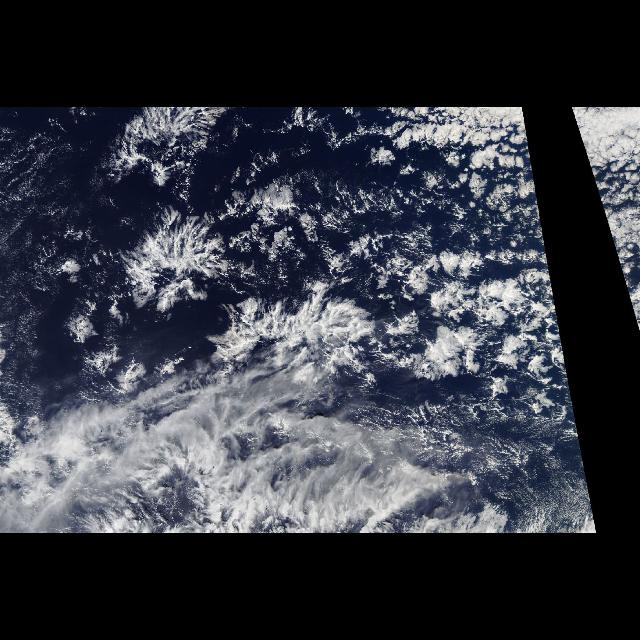Flower: (61, 109, 572, 399), (570, 109, 638, 327)
Sugar: (1, 136, 80, 422)
